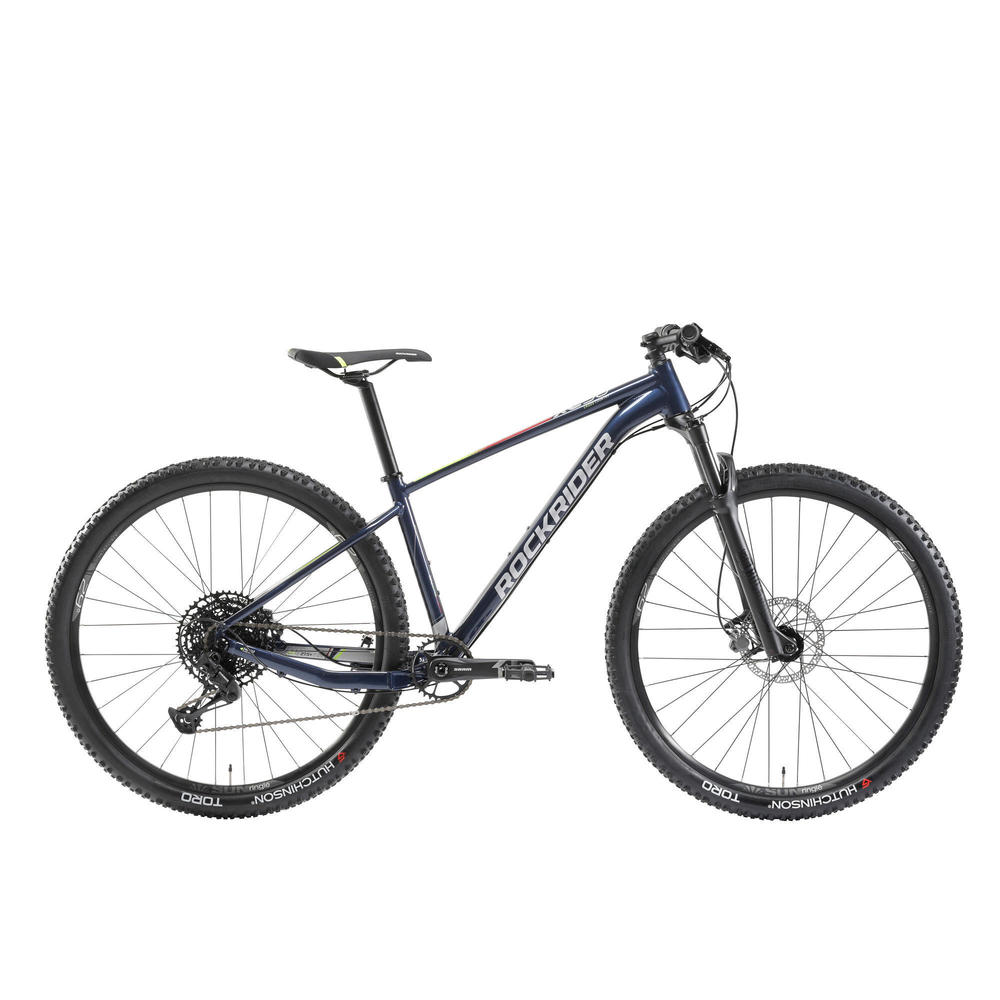MountainBike: (35, 310, 974, 829)
